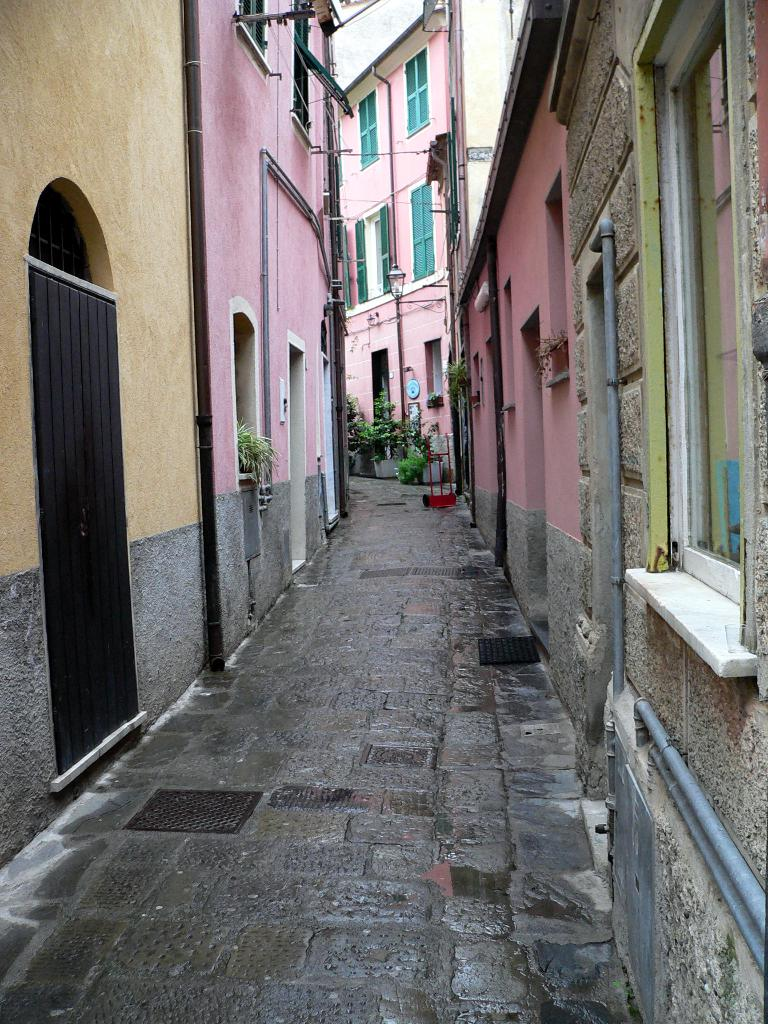door: (31, 276, 122, 722)
